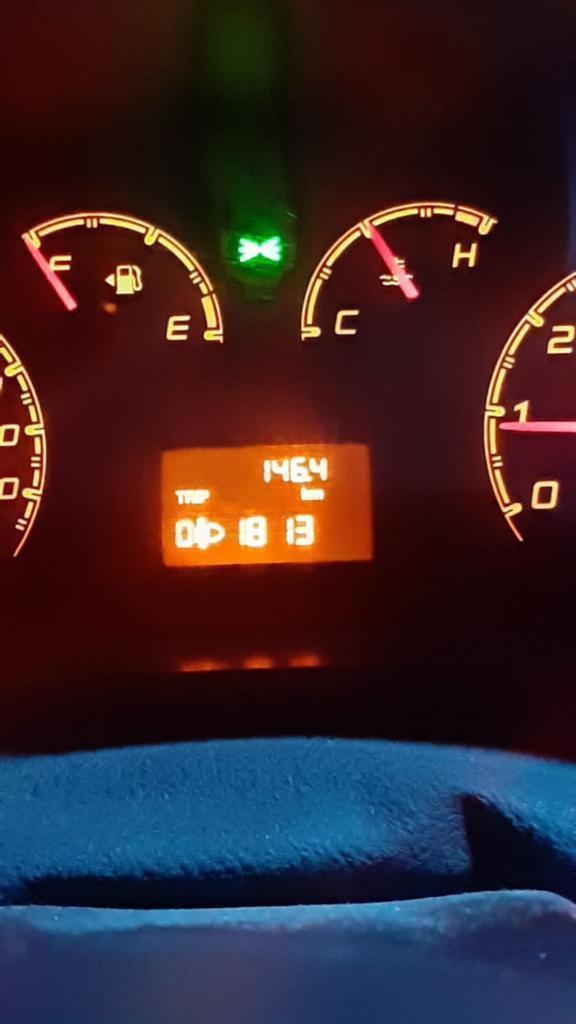,: (306, 475, 313, 482)
0: (173, 518, 192, 548)
1: (283, 512, 294, 549), (237, 515, 246, 550), (263, 457, 271, 484)
3: (294, 512, 314, 546)
4: (309, 456, 330, 482), (271, 457, 289, 482)
6: (290, 455, 308, 483)
8: (246, 514, 267, 547)
X: (199, 488, 211, 504), (300, 485, 311, 501), (174, 488, 184, 505), (311, 488, 323, 501), (184, 488, 192, 505), (193, 488, 199, 505)
odometer: (157, 442, 377, 566)
